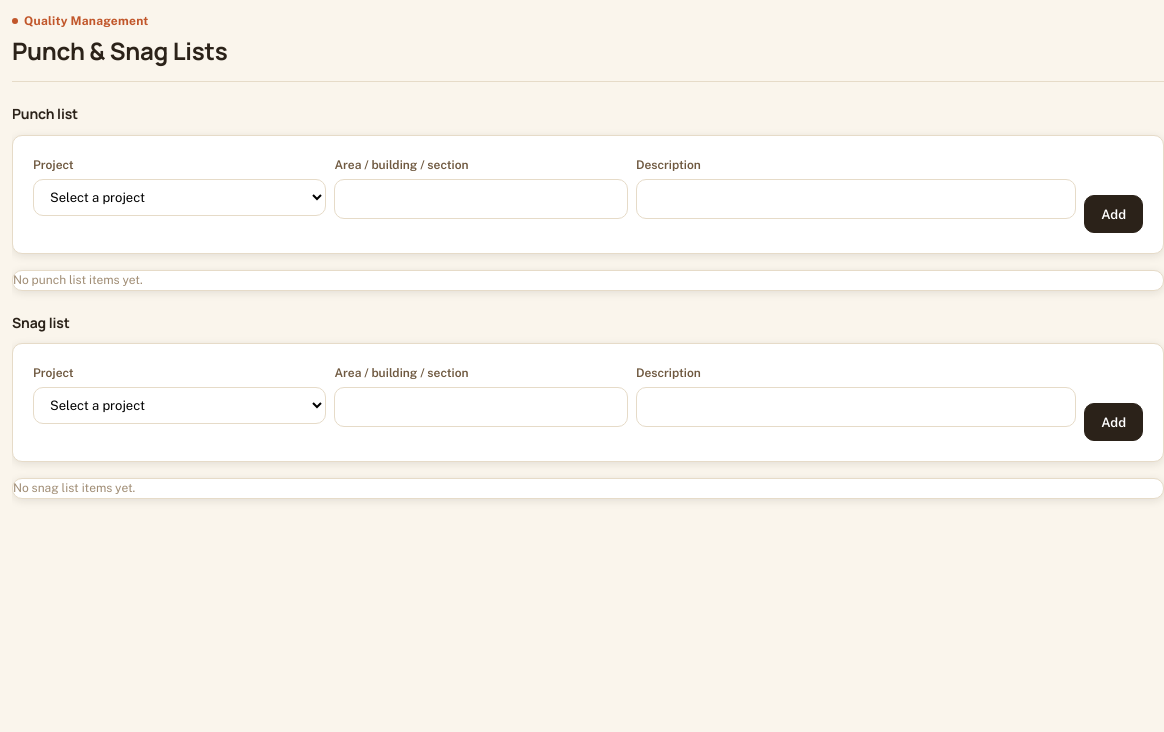
Scenario: PunchAndSnagListsPage › shows a real error banner when adding a punch list item fails
Expected: the text "No punch list items yet." is shown, [13, 273, 143, 287]
Select "Lekki Tower Phase 1" in the 1st dropdown labelled "Project": (180,197) [33, 179, 326, 216]
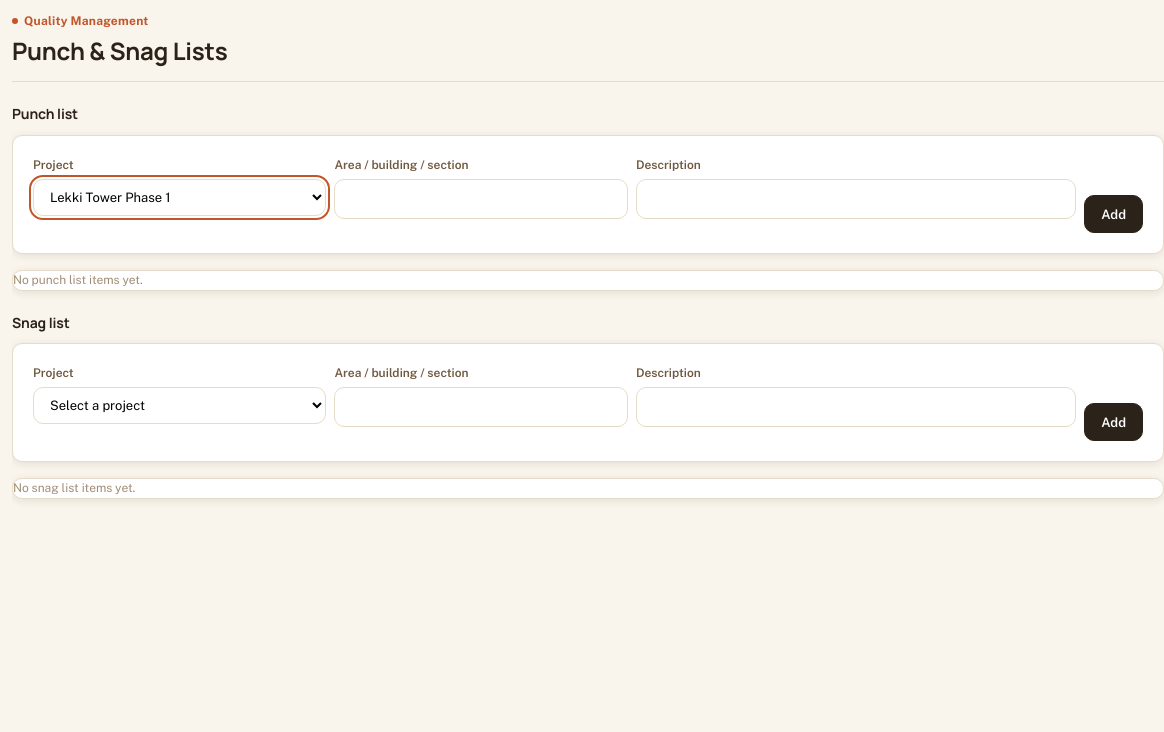
In the 1st field labelled "Description": (856,199) [636, 179, 1076, 219], type "Something"
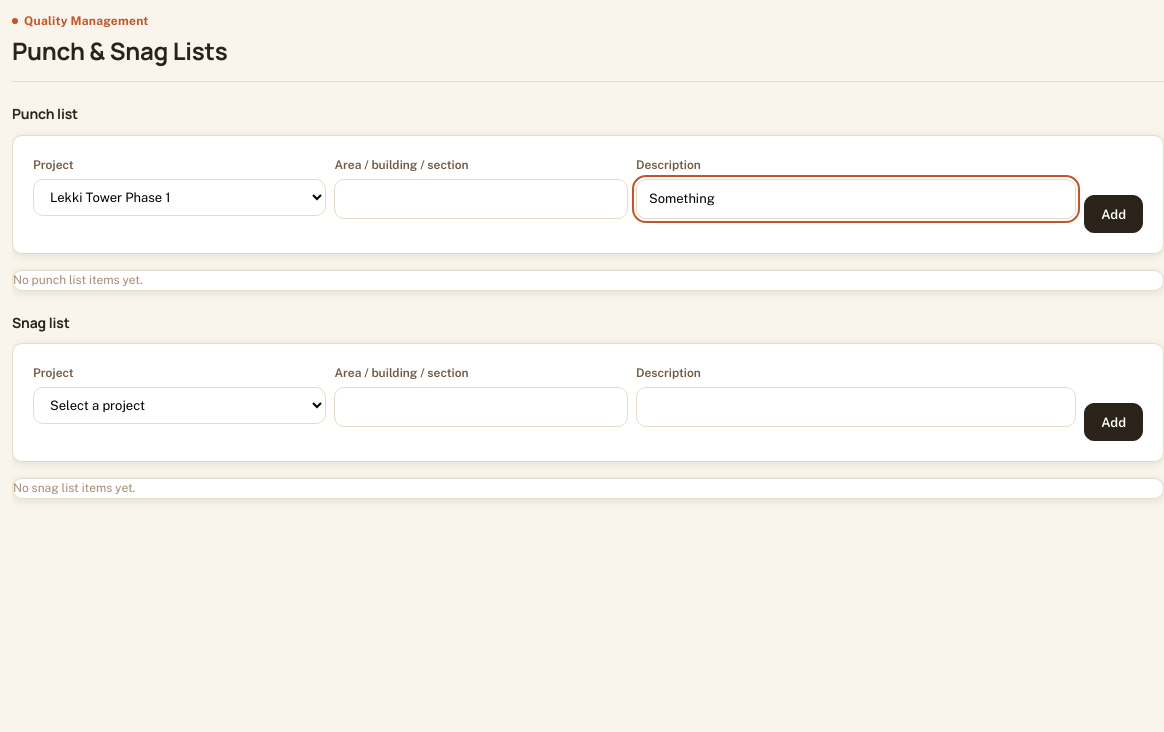
Click the 1st button "Add": (1114,214) [1084, 195, 1143, 233]
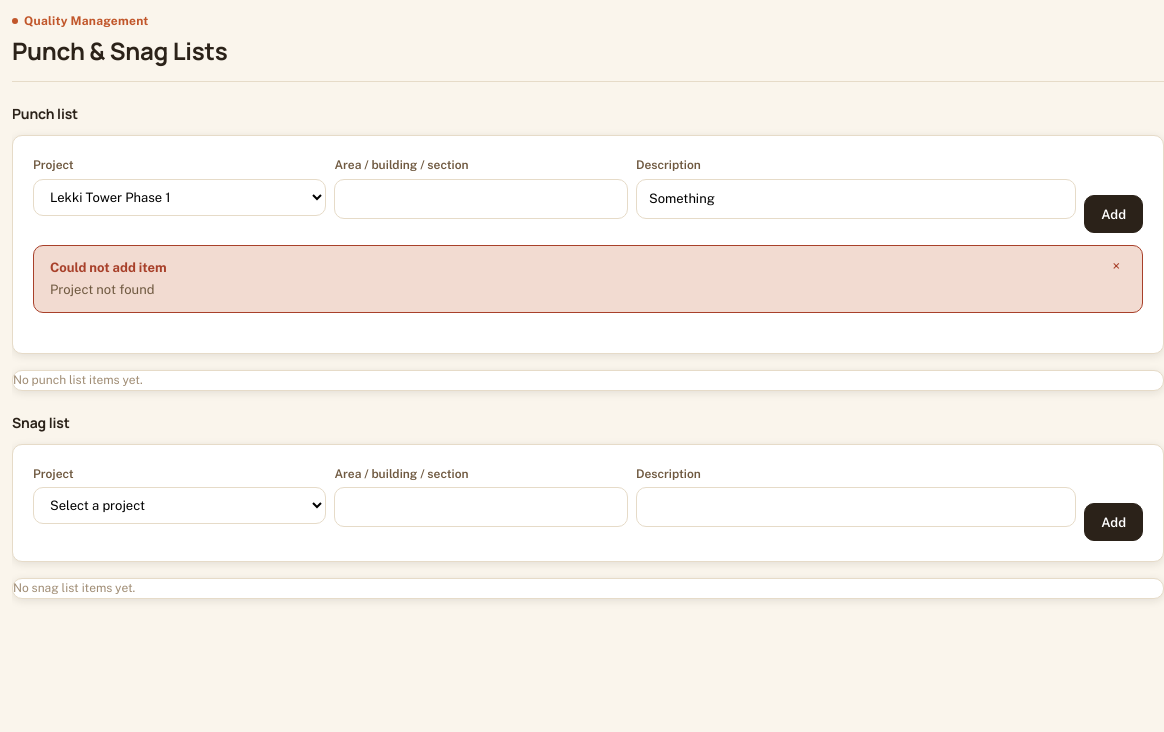
Expected: the text "Project not found" is shown, [50, 280, 166, 300]
